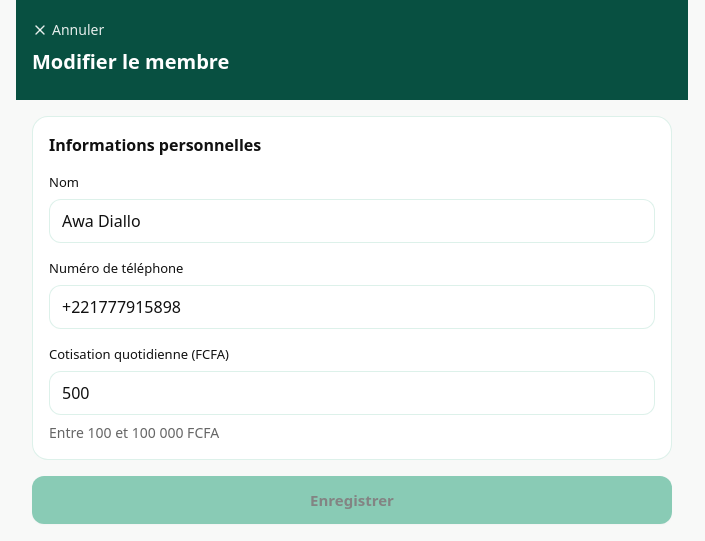
Test: MemberForm — edit mode › enables CTA only after a field becomes dirty
Replace the text in the number field labelled "Cotisation quotidienne (FCFA)" with "1000": (352, 393) [49,371,655,415]
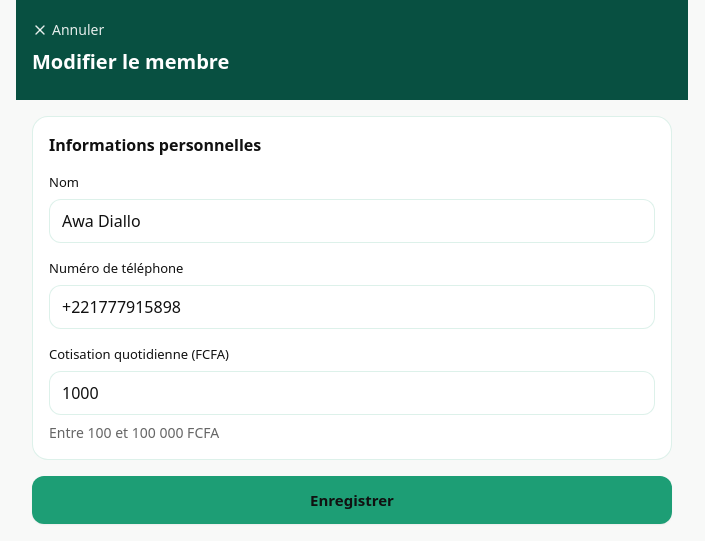
Check: the button "Enregistrer" is enabled, box [32,476,672,524]
